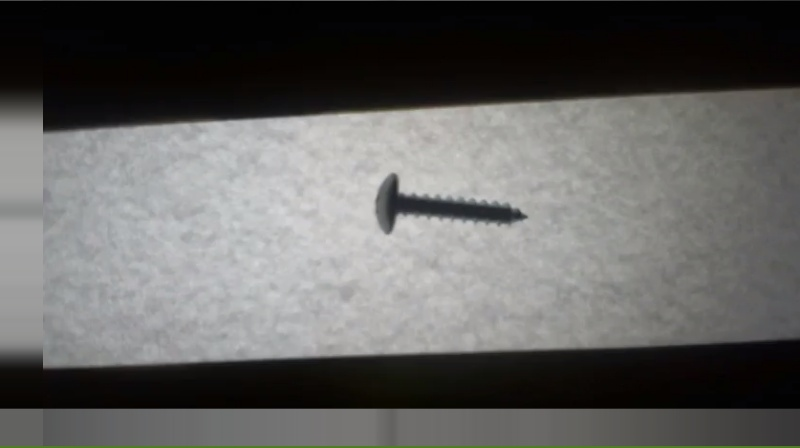S003: (369, 171, 530, 241)
